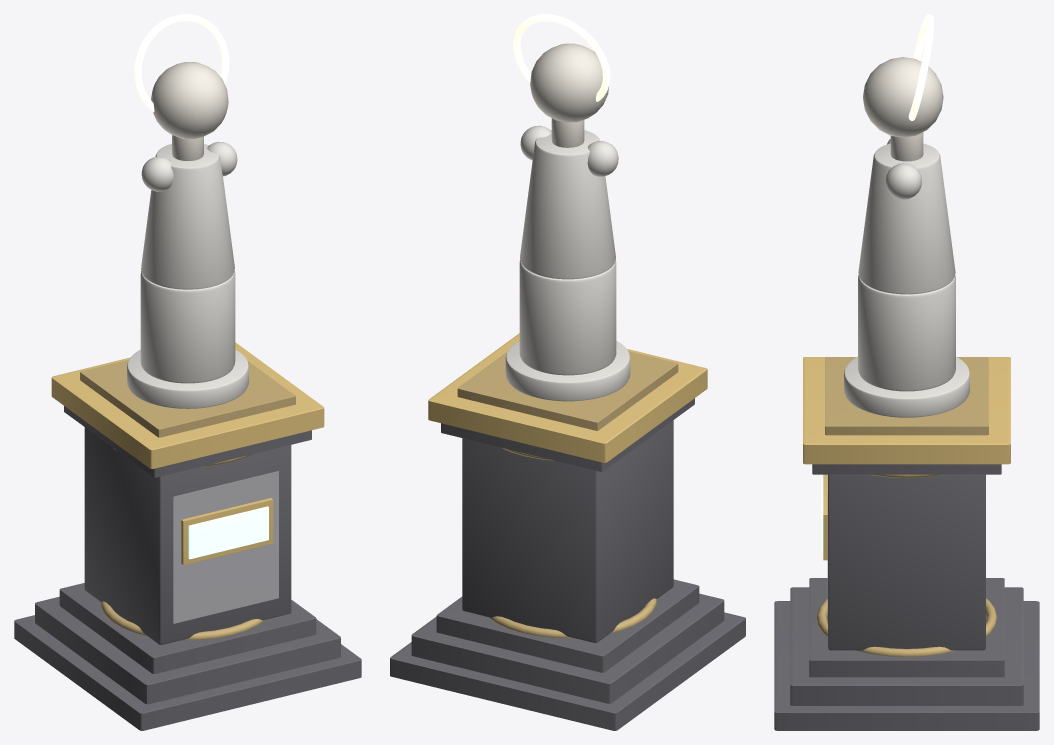
Rendered from hp_room_museum_statue_pedestal.glb.
3 renders of one model, left to right at view 1: azimuth 30°, elevation 25°; view 2: azimuth 150°, elevation 25°; view 3: azimuth 270°, elevation 25°, orthographic. The views are drawn at different scales.
Visible parts, largest first — view 1: room_museum_statue_pedestal; view 2: room_museum_statue_pedestal; view 3: room_museum_statue_pedestal.
Part boxes in pixels (left/top/right/bottom): room_museum_statue_pedestal: left=14, top=14, right=361, bottom=730; room_museum_statue_pedestal: left=390, top=14, right=745, bottom=730; room_museum_statue_pedestal: left=774, top=14, right=1039, bottom=730.
Size of the model in its own units: 0.84 by 2.29 by 0.84.
